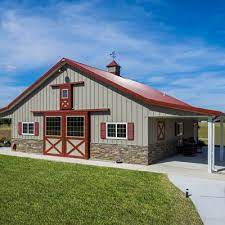Tin-shade House: (8, 56, 218, 172)
